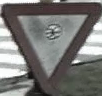Give way: (1, 2, 96, 89)
